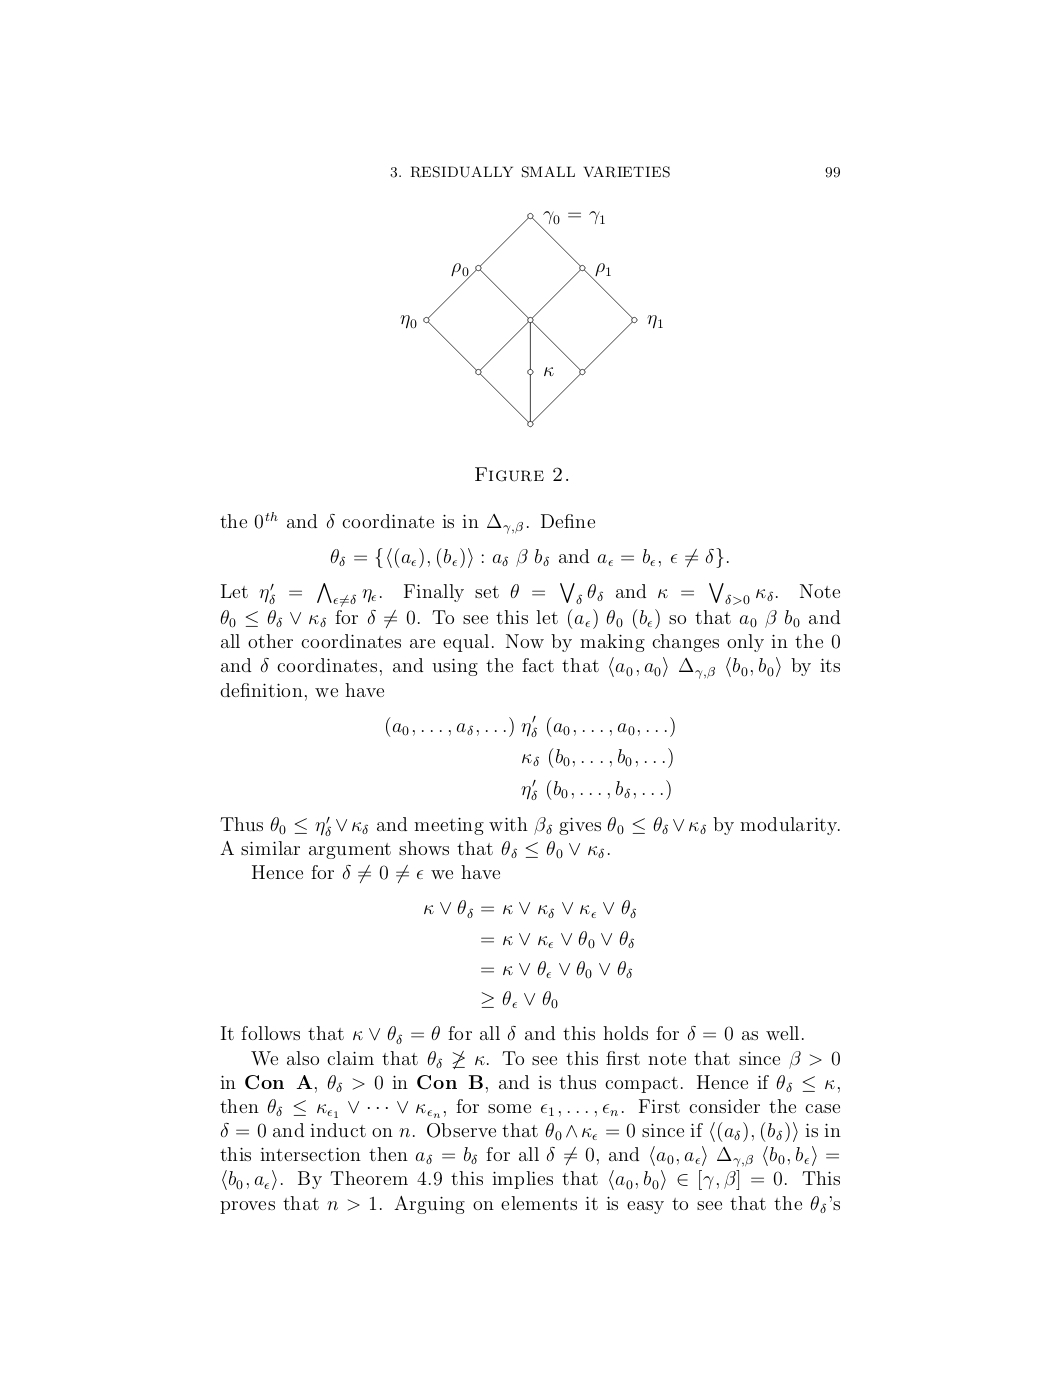figure: (400, 211, 662, 427)
formula: (330, 547, 728, 568), (386, 714, 674, 738), (424, 899, 635, 919), (520, 778, 670, 801), (522, 747, 672, 768), (481, 929, 633, 950), (481, 960, 631, 978), (481, 990, 557, 1009)
